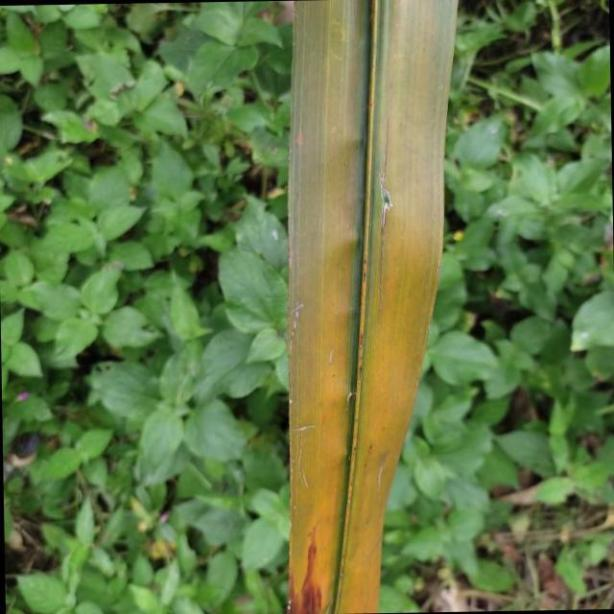Megnesium: (286, 0, 451, 614)
